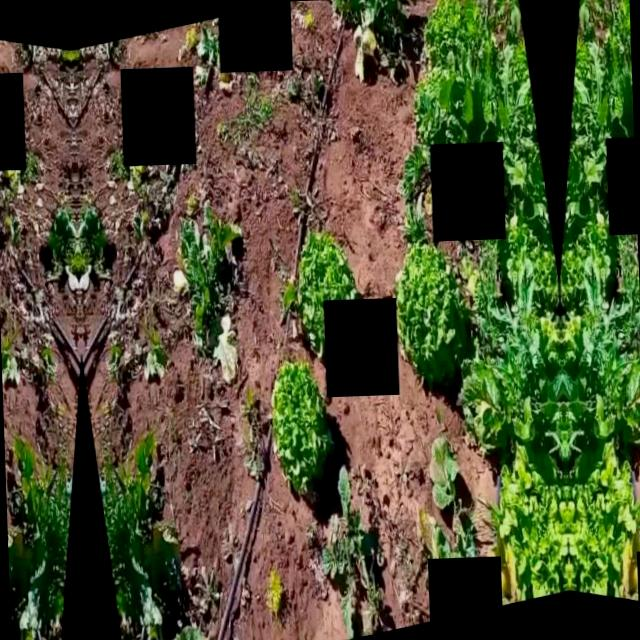healthy: (394, 245, 472, 399), (489, 466, 570, 604), (565, 463, 640, 601), (485, 296, 560, 429), (563, 294, 638, 426), (268, 354, 328, 481), (289, 238, 351, 352), (429, 1, 499, 72), (413, 69, 471, 120), (487, 48, 536, 102), (567, 46, 616, 100), (601, 0, 631, 65)
